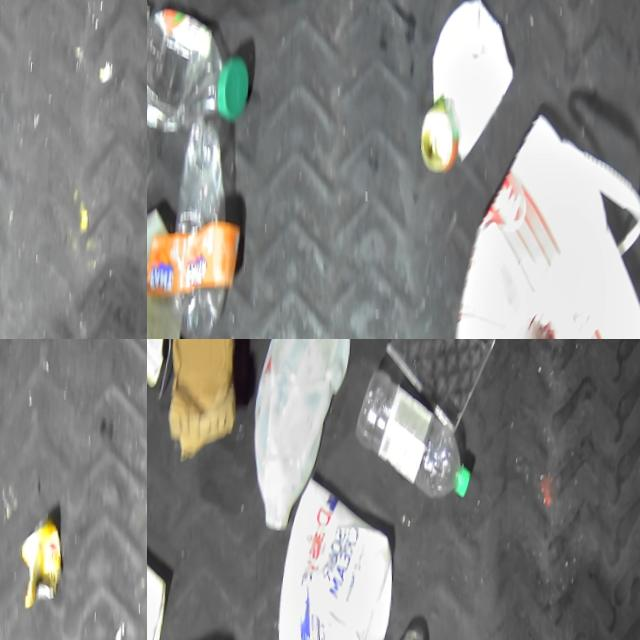can: (19, 512, 69, 610), (418, 92, 464, 171)
milk_jug: (248, 339, 357, 532)
plastic_bottle: (353, 364, 478, 501), (171, 121, 243, 339)
